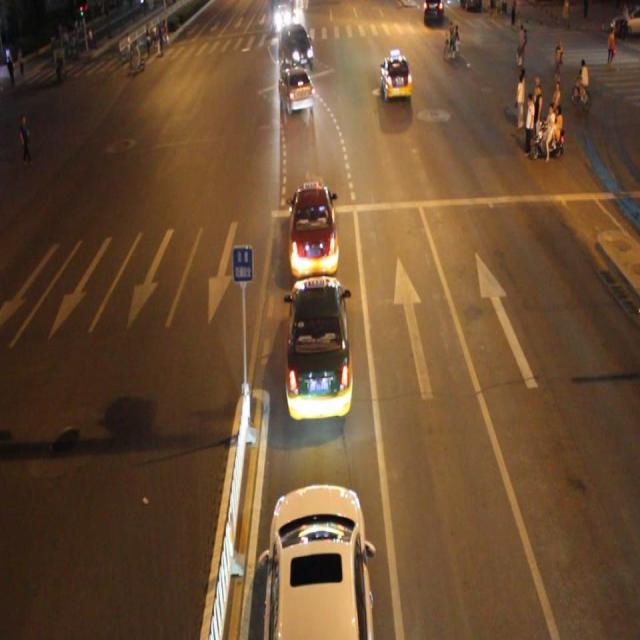car: (259, 479, 375, 640), (282, 274, 354, 422), (287, 183, 338, 274), (278, 67, 314, 113), (379, 54, 411, 101), (280, 23, 313, 68)
